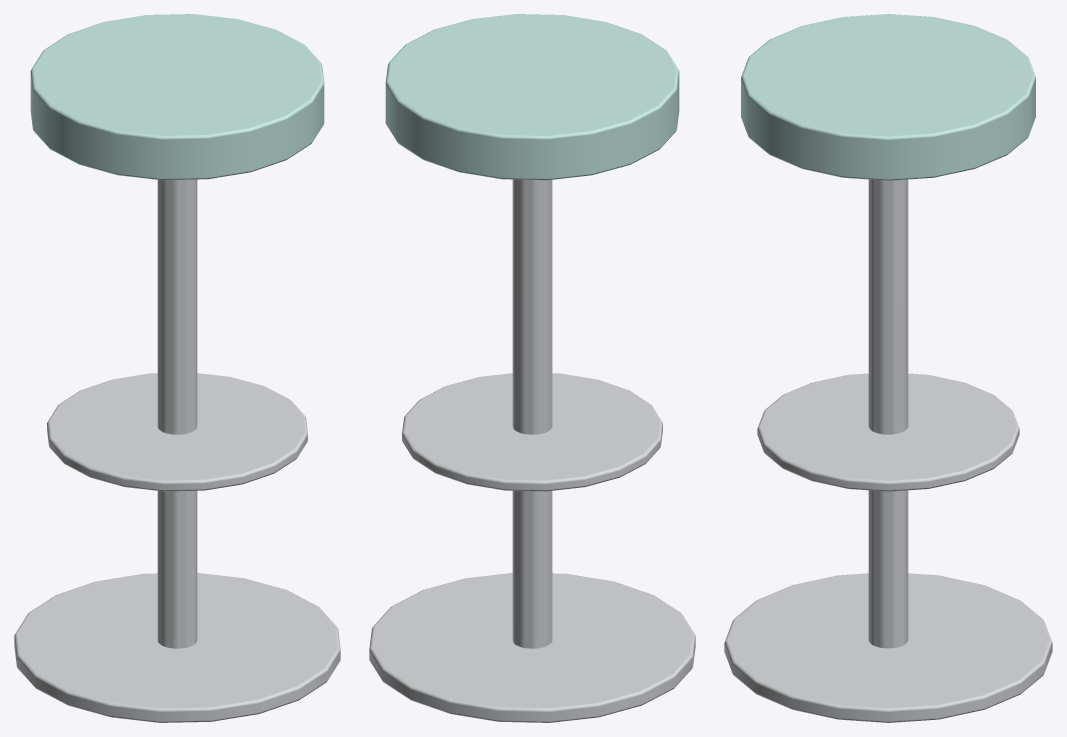
The model's file is SM_BarStool.fbx.
The picture shows the model from 3 angles, left to right: view 1: azimuth 30°, elevation 25°; view 2: azimuth 150°, elevation 25°; view 3: azimuth 270°, elevation 25°; orthographic projection.
Visible parts, largest first — view 1: SM_BarStool; view 2: SM_BarStool; view 3: SM_BarStool.
Boxes of the visible parts, x1,y1,x2,y2 form: SM_BarStool: (14, 14, 340, 722); SM_BarStool: (369, 14, 695, 722); SM_BarStool: (724, 14, 1052, 722).
Size of the model in its own units: 0.4 by 0.78 by 0.4.
